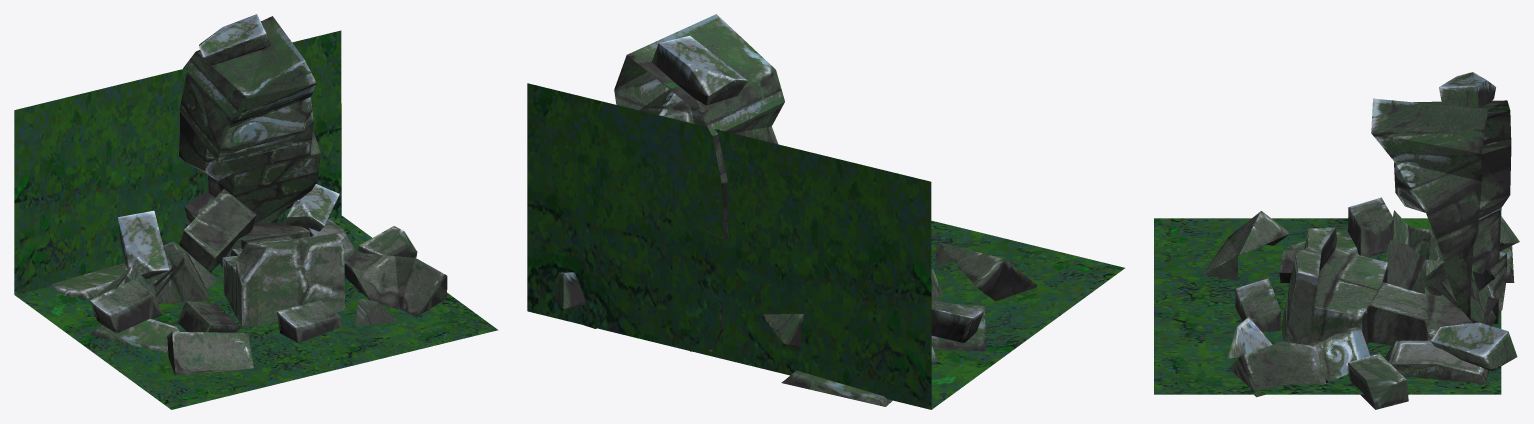
The model's file is stemple_rubble_straight_03.fbx.
3 renders of one model, left to right at view 1: azimuth 30°, elevation 25°; view 2: azimuth 150°, elevation 25°; view 3: azimuth 270°, elevation 25°, orthographic. The views are drawn at different scales.
Parts seen in each view (by area): view 1: obj1.017; view 2: obj1.017; view 3: obj1.017.
Part boxes in pixels (box(x1,y1,x2,y2)): obj1.017: box(14, 14, 498, 409); obj1.017: box(527, 14, 1124, 409); obj1.017: box(1154, 72, 1519, 409).
Bounding box in the file's own units: 4.23 × 2.91 × 3.51.
